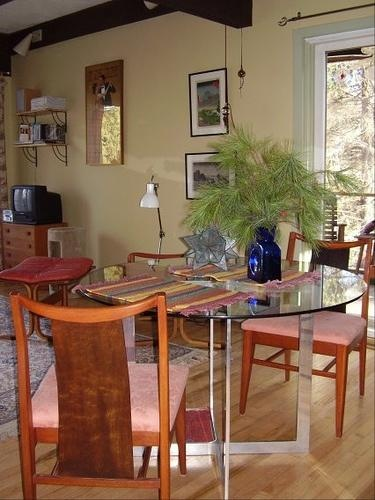chair: (8, 288, 190, 500), (240, 231, 375, 443)
diningtable: (78, 249, 368, 496)
tvmonitor: (11, 184, 65, 226)
